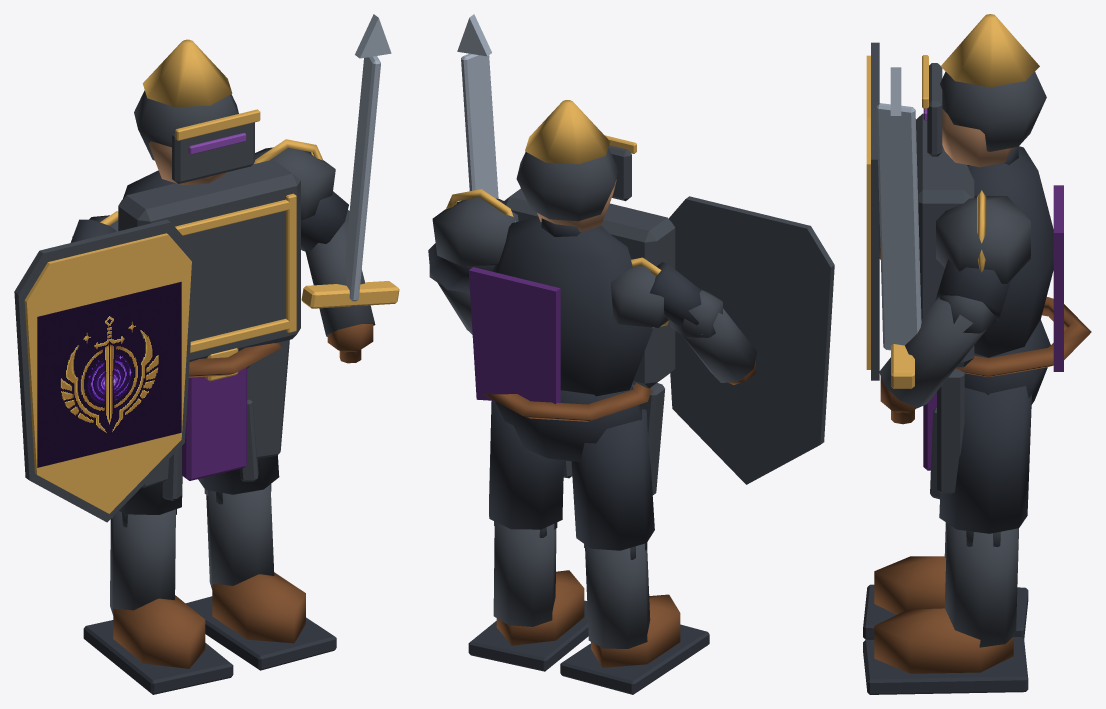
3 views of the same model, side by side, from view 1: azimuth 30°, elevation 25°; view 2: azimuth 150°, elevation 25°; view 3: azimuth 270°, elevation 25° (orthographic). The views are drawn at different scales.
Parts seen in each view (by area): view 1: WK_Hegemony_HonorGuard_LOD2_Compact_Static; view 2: WK_Hegemony_HonorGuard_LOD2_Compact_Static; view 3: WK_Hegemony_HonorGuard_LOD2_Compact_Static.
Part boxes in pixels (x1,y1,x2,y2): WK_Hegemony_HonorGuard_LOD2_Compact_Static: [14, 14, 399, 694]; WK_Hegemony_HonorGuard_LOD2_Compact_Static: [428, 14, 834, 694]; WK_Hegemony_HonorGuard_LOD2_Compact_Static: [863, 14, 1091, 694].
Size of the model in its own units: 1.41 by 2.11 by 0.6668.
9 materials, 1 textured.
